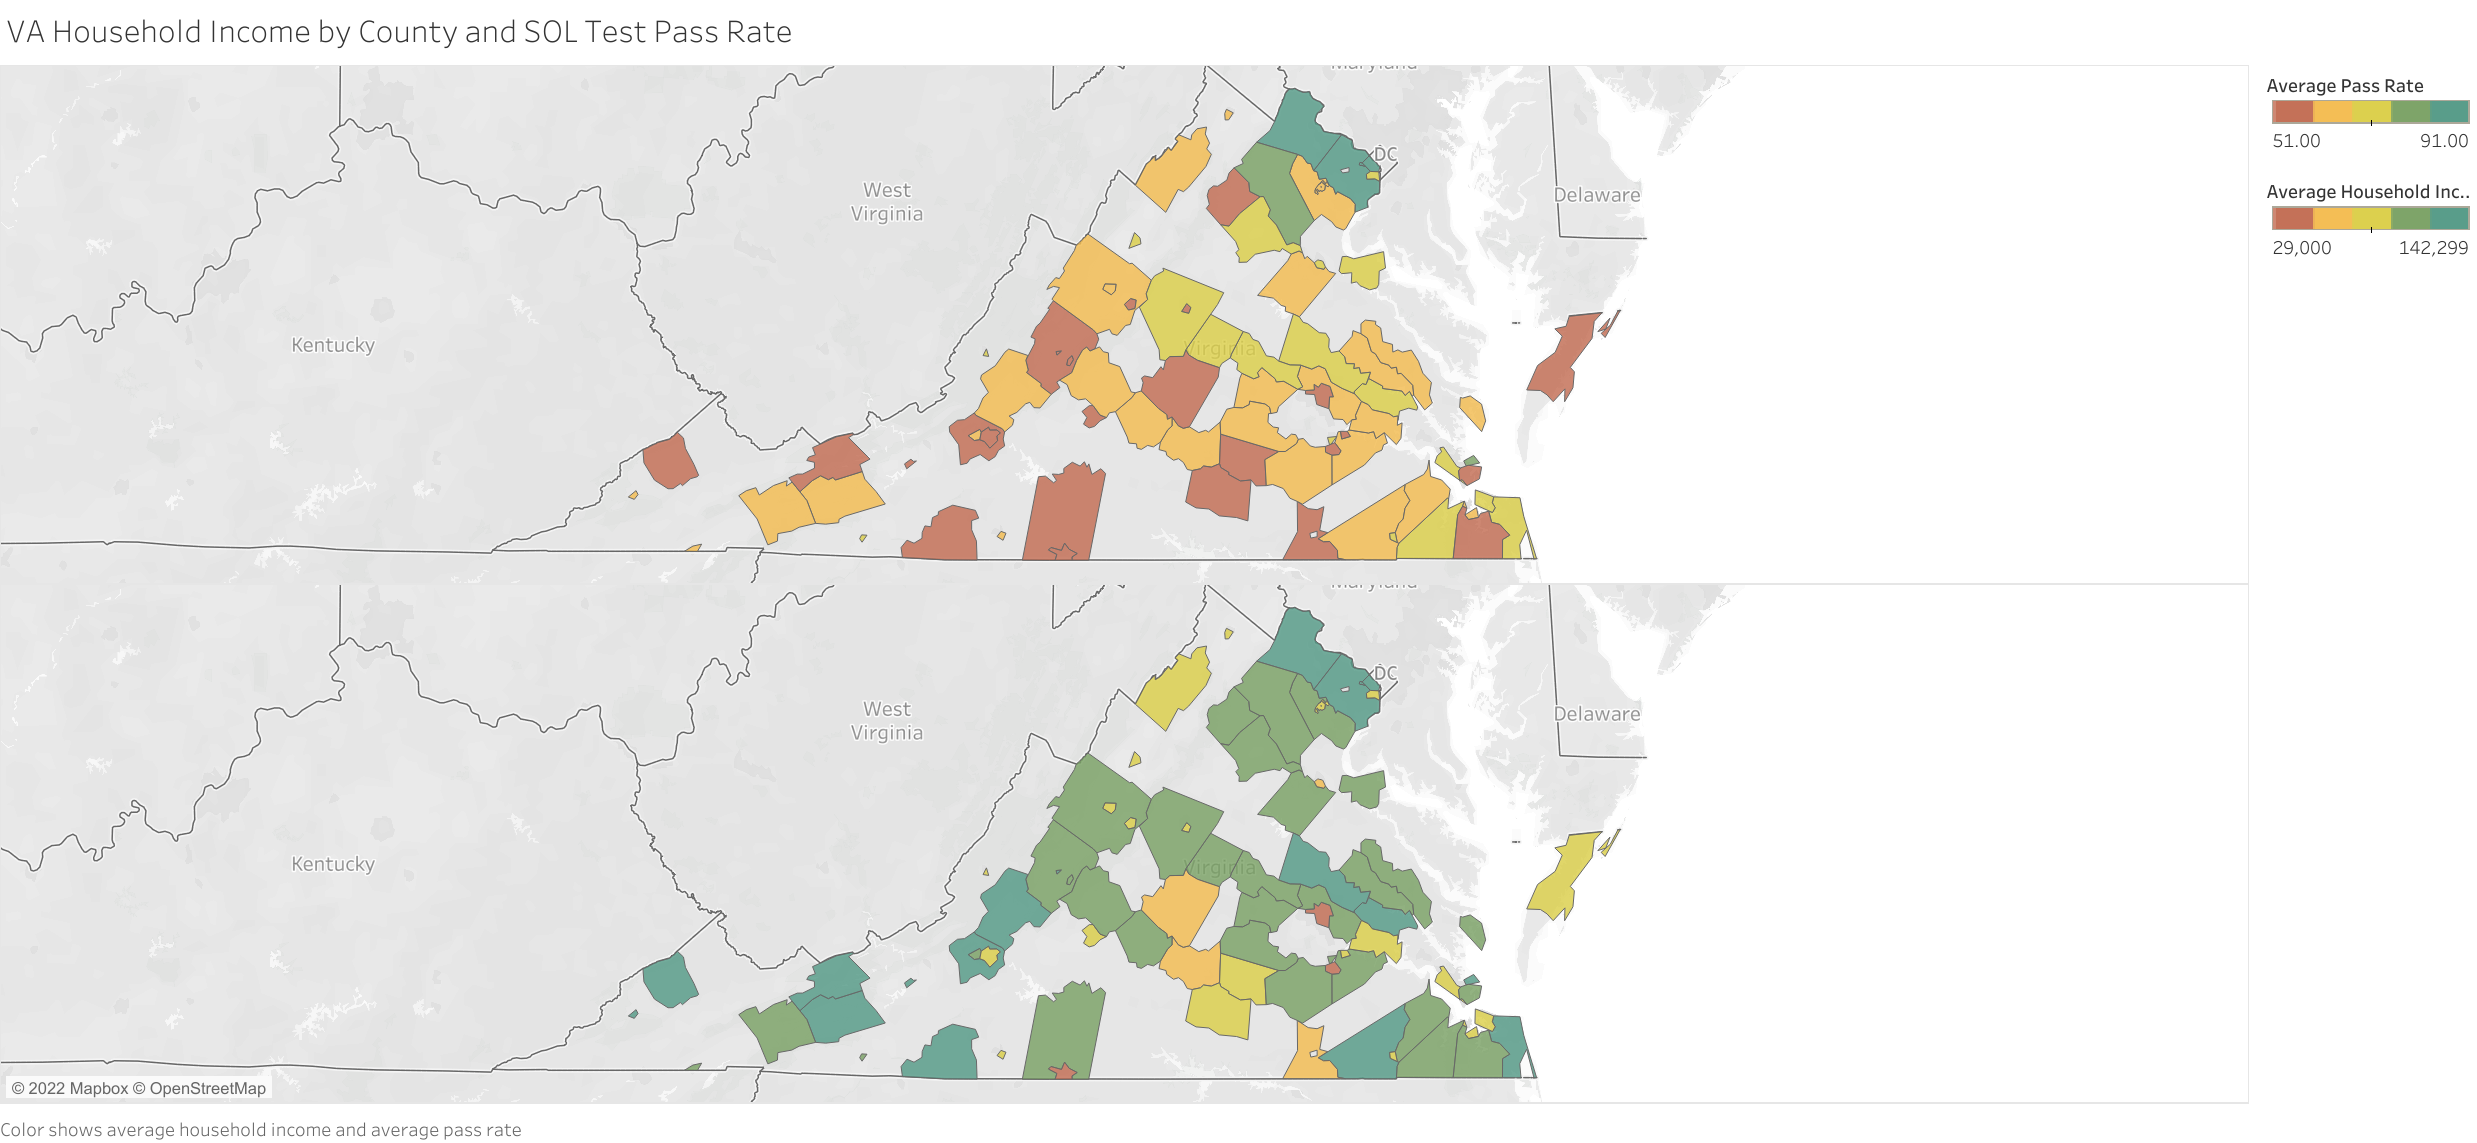

The dashboard page shown, as its layout file describes it:
{"tool":"tableau","page":{"name":"Dashboard 1","canvas":[1000,800],"ordinal":0},"visuals":[{"type":"worksheet","title":"Sheet 3","mark":"Automatic","box":[8,8,203.8,709]},{"type":"worksheet","title":"Sheet 1","mark":"Automatic","box":[211.8,8,288.2,152]},{"type":"worksheet","title":"Sheet 4","mark":"Automatic","rows":["Calculation_1799751060140171267"],"cols":["date"],"box":[500,8,492,784]},{"type":"worksheet","title":"Sheet 2","mark":"Automatic","rows":["total_deaths"],"cols":["location"],"box":[211.8,160,288.2,632]},{"type":"legend","title":"Sheet 3","param":"[federated.0jgpuct01unkrb1cb081u1odrplp].[usr:Calculation_1799751060140171267:qk","box":[8,717,203.8,75]}]}

Visuals, with their boxes on the page's 1000x800 design canvas (x1, y1, x2, y2). These are canvas units, not pixel positions in the 2477x1143 screenshot, which may show the page scaled, cropped or inside an application window:
"Sheet 3" worksheet: <region>8, 8, 212, 717</region>
"Sheet 1" worksheet: <region>212, 8, 500, 160</region>
"Sheet 4" worksheet: <region>500, 8, 992, 792</region>
"Sheet 2" worksheet: <region>212, 160, 500, 792</region>
"Sheet 3" legend: <region>8, 717, 212, 792</region>
